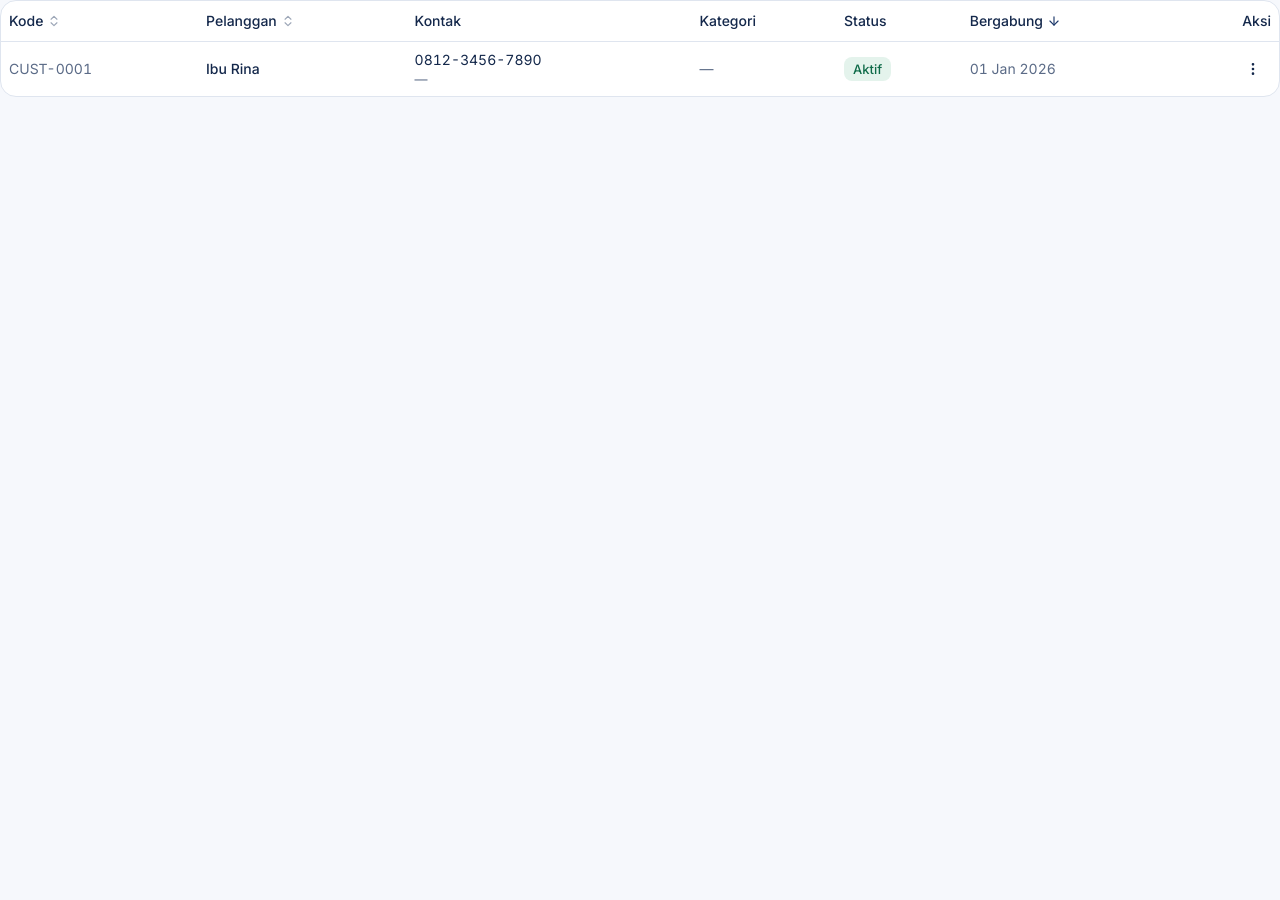
Test: deleting a customer that still has pets › falls back to the message when a refusal carries no reason
Click the button named "Aksi untuk Ibu Rina" at (1253, 69), box [1235, 51, 1271, 87]
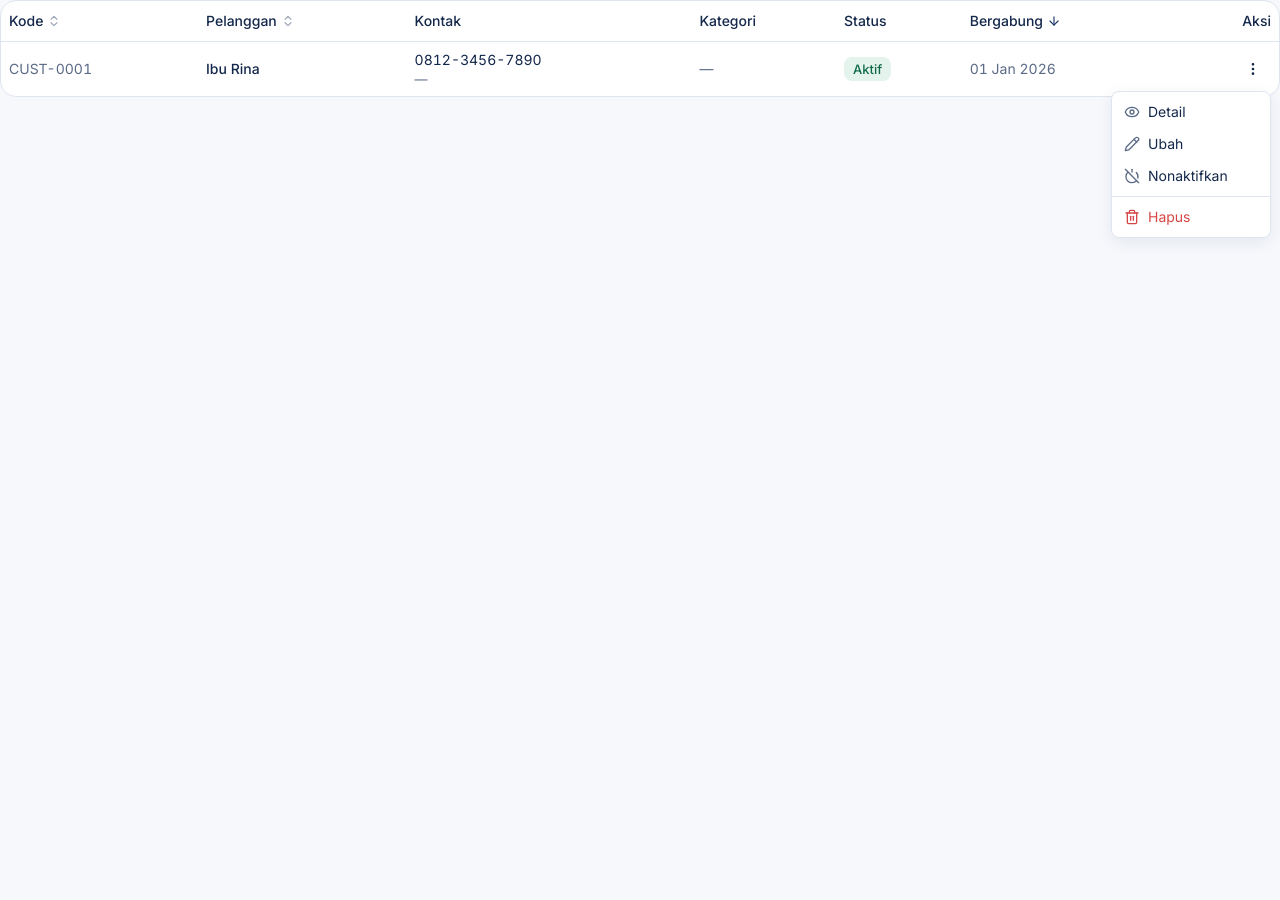
Click the menu item "Hapus" at (1157, 216), box [1124, 208, 1190, 225]
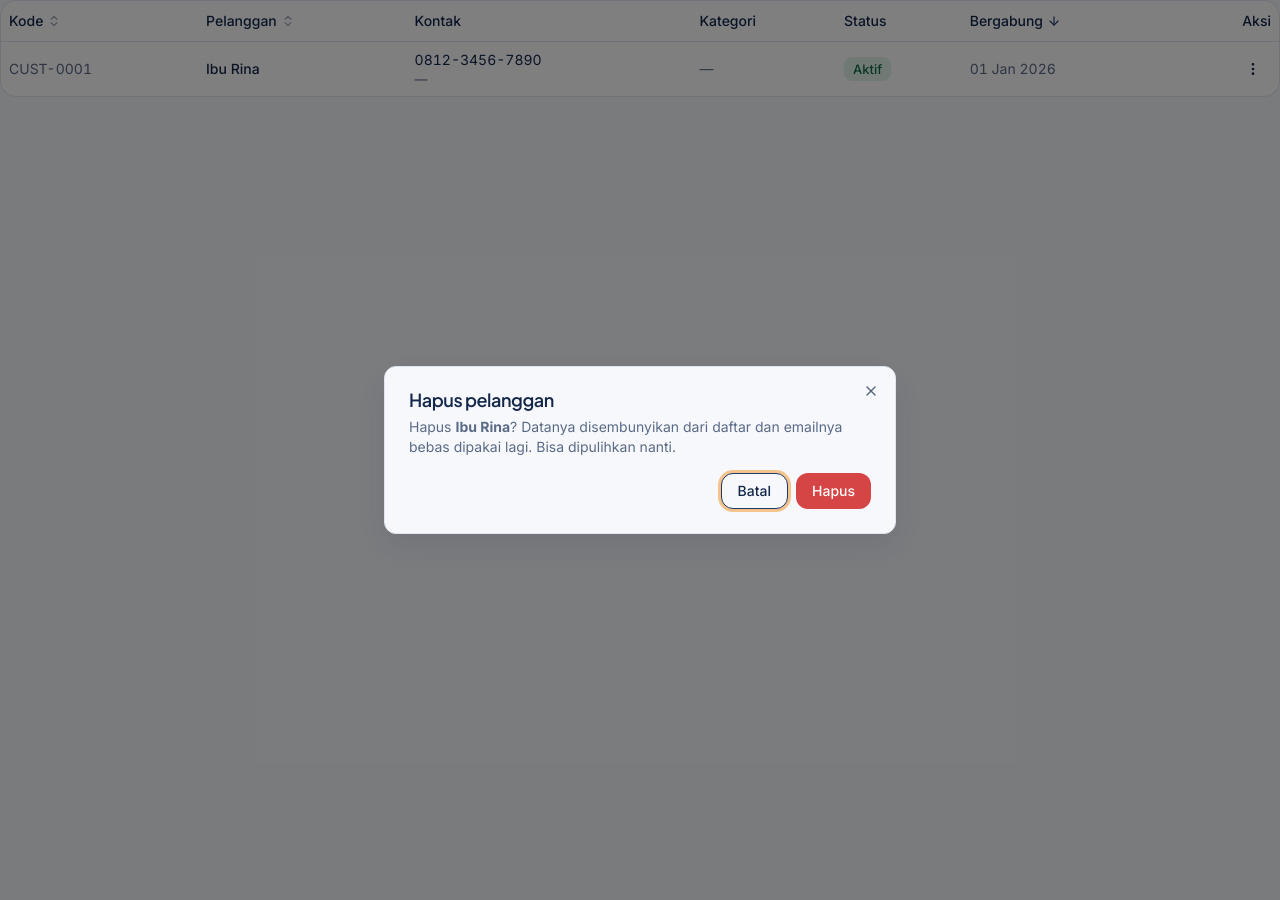
Click the button "Hapus" at (834, 491), box [796, 473, 871, 509]
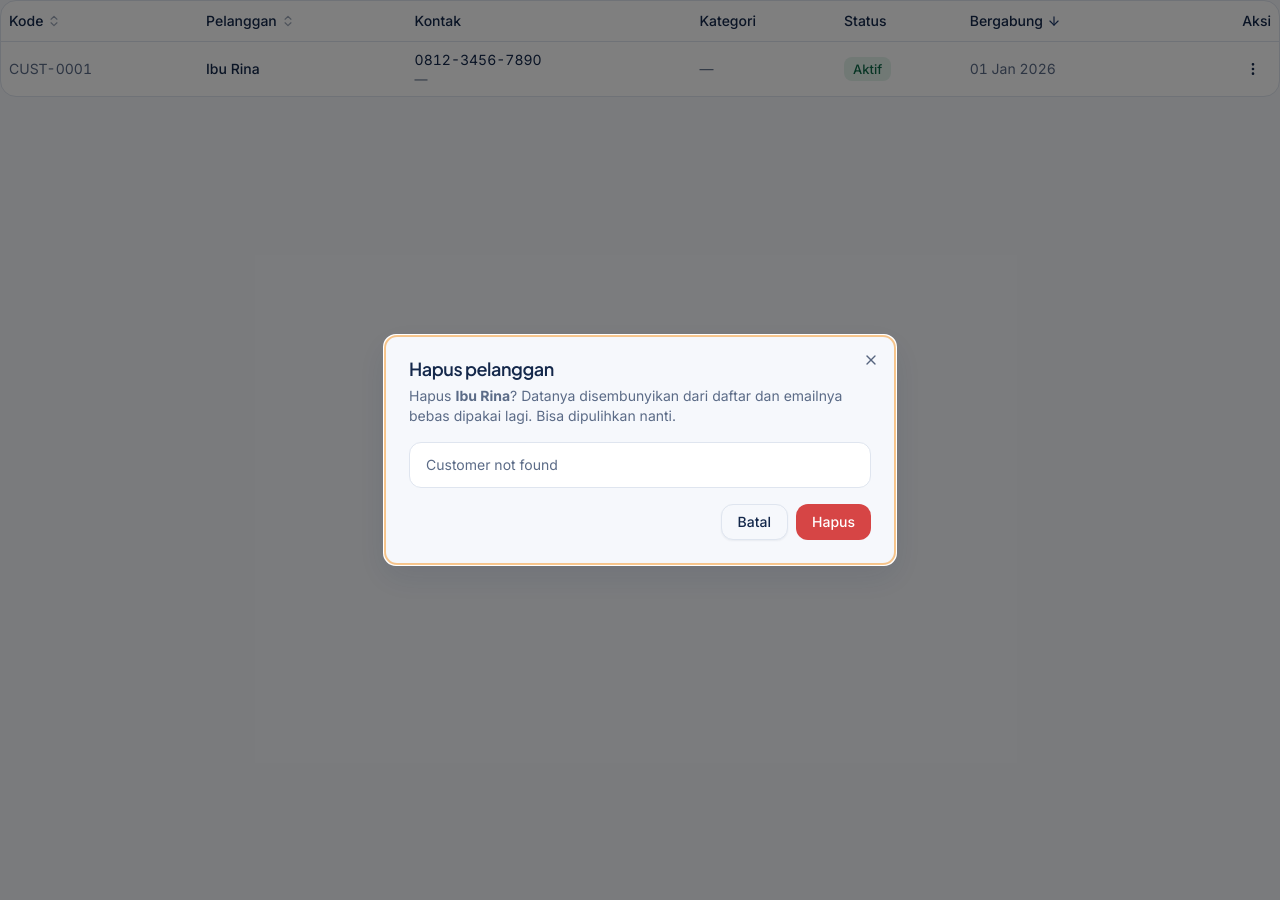
Result: the text "Customer not found" is shown at [426, 456, 558, 473]
